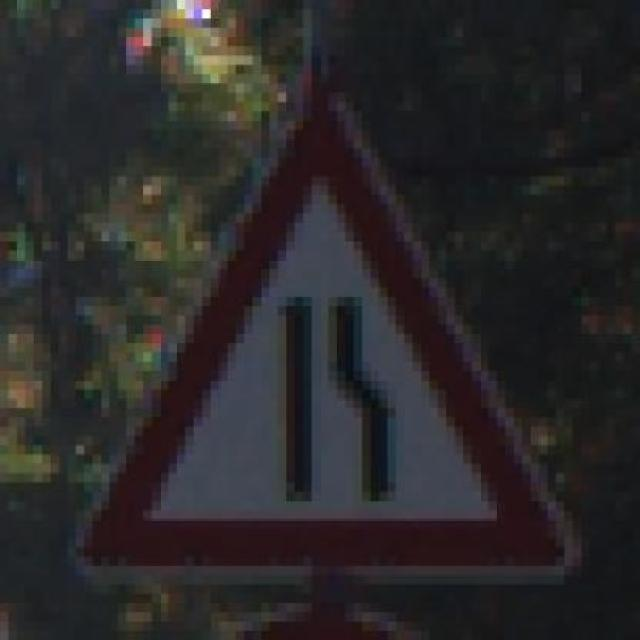-Road narrows on right: (84, 65, 590, 603)
